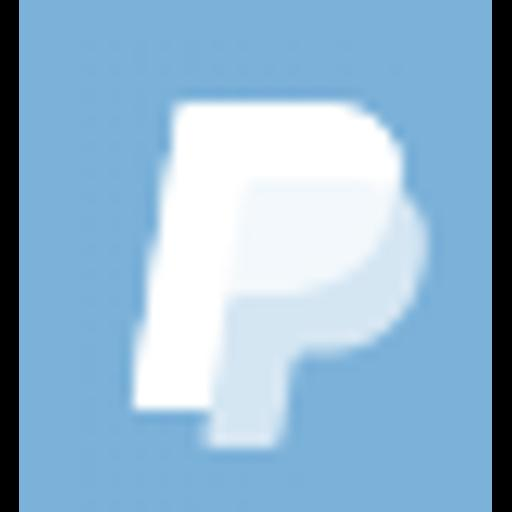PayPal: (19, 0, 492, 512)
